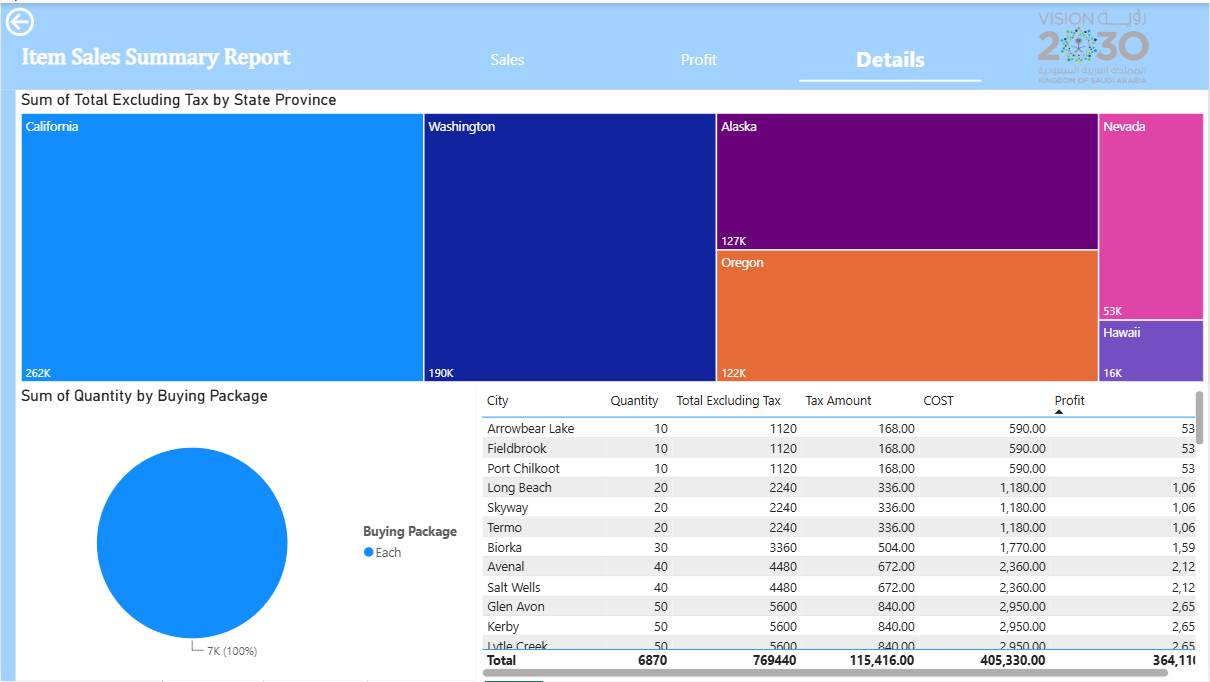

What the dashboard file says about the page in this screenshot:
{"tool":"powerbi","page":{"name":"Details","canvas":[1280,720],"ordinal":2},"visuals":[{"type":"shape","box":[0,0,1281.1,92],"z":0},{"type":"shape","box":[0,92,15.1,628.9],"z":1000},{"type":"textbox","box":[6.7,38.5,321.1,53.5],"z":2000},{"type":"image","box":[1036.9,6.7,242.5,78.6],"z":3000},{"type":"actionButton","box":[0,0,100,40],"z":4000},{"type":"pageNavigator","box":[440,34,600,50],"z":5000},{"type":"pieChart","fields":{"Category":["DimStockItem.Buying Package"],"Y":["Sum(FactSale.Quantity)"]},"box":[16,406,488,314],"z":6000},{"type":"treemap","fields":{"Group":["DimCity.State Province"],"Values":["Sum(FactSale.Total Excluding Tax)"]},"box":[16,92,1264,314],"z":7000},{"type":"tableEx","fields":{"Values":["DimCity.City","Sum(FactSale.Quantity)","Sum(FactSale.Total Excluding Tax)","Sum(FactSale.Tax Amount)","Sum(FactSale.COST)","Sum(FactSale.Profit)"]},"box":[504,406,776,314],"z":8000}]}

Visuals, with their boxes in screenshot pixels (x1, y1, x2, y2), scaled from the page's 1280x720 canvas onto the 1210x682 screenshot:
shape: 0:0:1209:87
shape: 0:87:14:681
textbox: 6:36:310:87
image: 980:6:1209:81
actionButton: 0:0:95:38
pageNavigator: 416:32:983:80
pieChart - DimStockItem.Buying Package x Sum(FactSale.Quantity): 15:385:476:681
treemap - DimCity.State Province x Sum(FactSale.Total Excluding Tax): 15:87:1209:385
tableEx - DimCity.City x Sum(FactSale.Quantity): 476:385:1209:681
